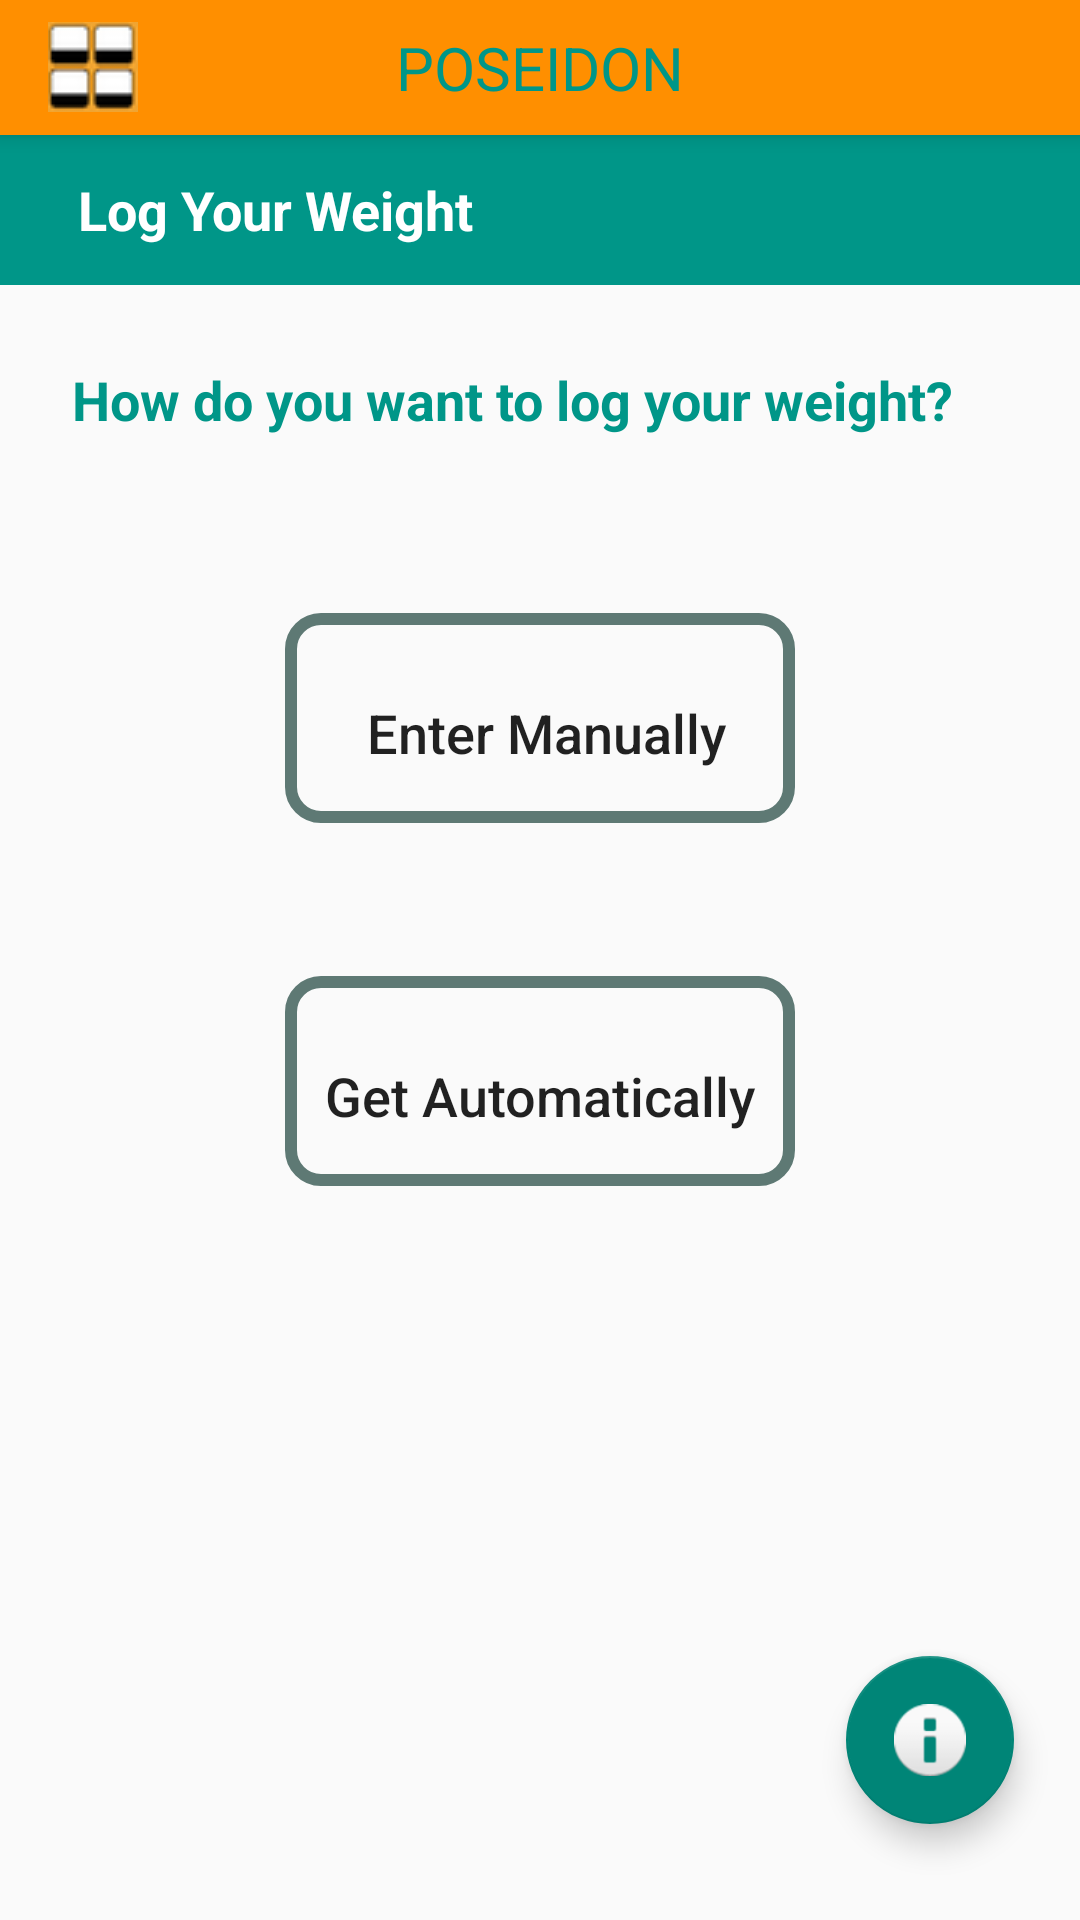

Point at icon controls on the screen. Image size 1080 × 1920, points as [x,y].
homebutton: [93,67]
info: [930,1740]
